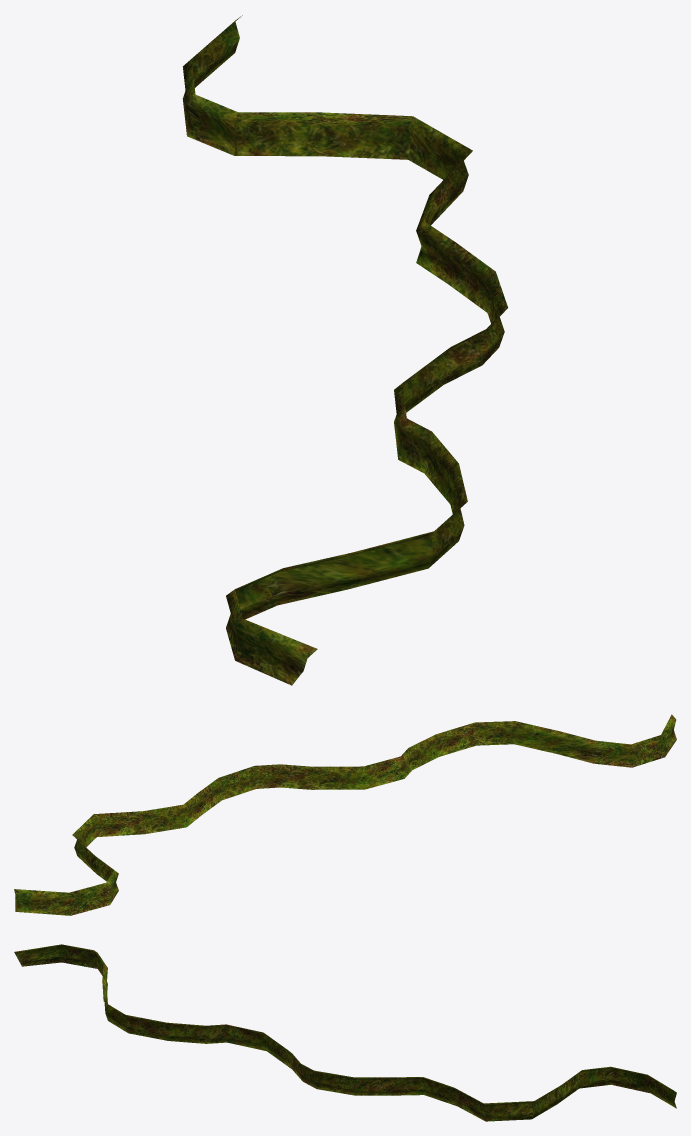
Rendered from TROLLHOLE02_RM_PSURF198.fbx.
The picture shows the model from 3 angles, top to bottom: view 1: azimuth 30°, elevation 25°; view 2: azimuth 150°, elevation 25°; view 3: azimuth 270°, elevation 25°; orthographic projection. The views are drawn at different scales.
Visible parts, largest first — view 1: TROLLHOLE02_RM_PSURF198; view 2: TROLLHOLE02_RM_PSURF198; view 3: TROLLHOLE02_RM_PSURF198.
Boxes of the visible parts, x1,y1,x2,y2 form: TROLLHOLE02_RM_PSURF198: (182,15,507,685); TROLLHOLE02_RM_PSURF198: (14,714,676,915); TROLLHOLE02_RM_PSURF198: (14,944,676,1121).
Size of the model in its own units: 289326 by 19709 by 503344.
1 material, 1 textured.
